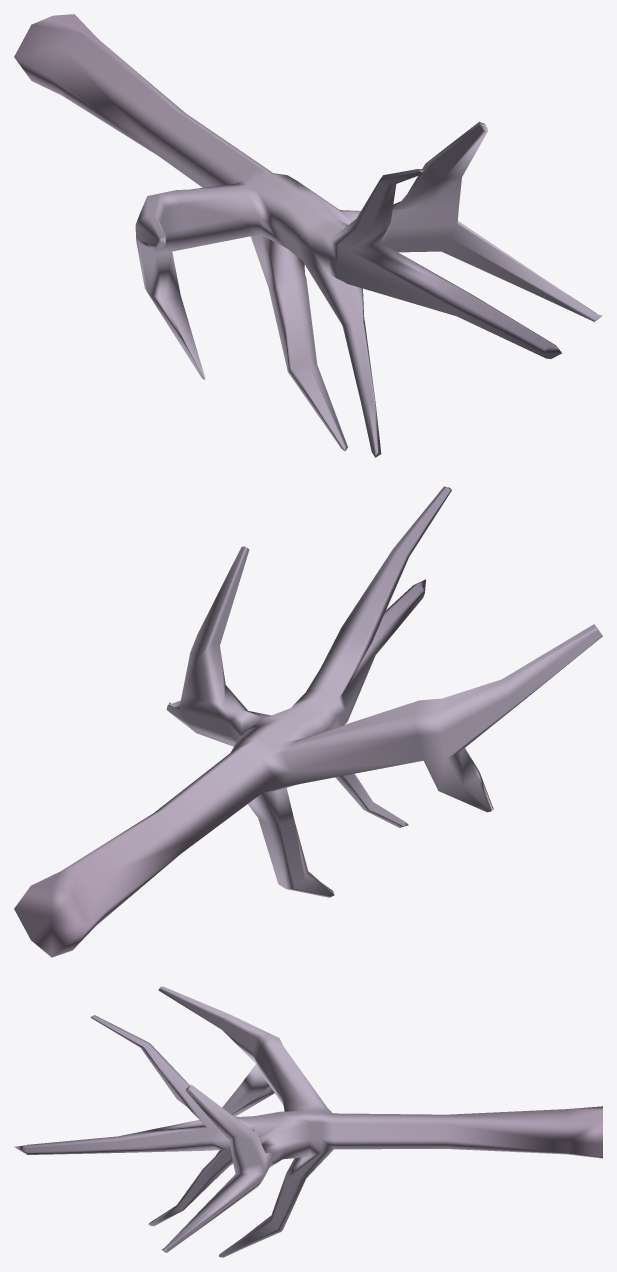
File: tree_lowpoly.fbx
3 renders of one model, top to bottom at view 1: azimuth 30°, elevation 25°; view 2: azimuth 150°, elevation 25°; view 3: azimuth 270°, elevation 25°, orthographic. The views are drawn at different scales.
Visible parts, largest first — view 1: Cube; view 2: Cube; view 3: Cube.
Boxes of the visible parts, x1,y1,x2,y2 form: Cube: (14,14,602,457); Cube: (14,486,602,957); Cube: (14,986,602,1257).
Size of the model in its own units: 5.41 by 4.13 by 9.39.
1 material, 1 textured.
